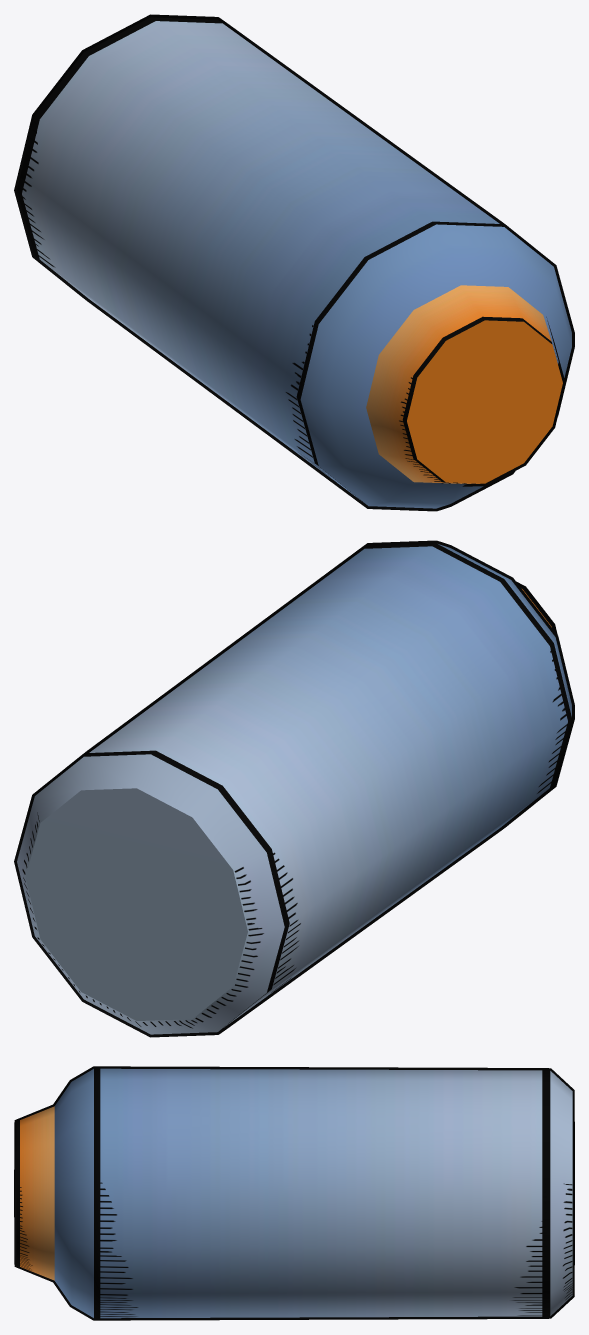
File: pm-sci-fi-battery-capsule-02.glb
3 views of the same model, one above another, from view 1: azimuth 30°, elevation 25°; view 2: azimuth 150°, elevation 25°; view 3: azimuth 270°, elevation 25° (orthographic). The views are drawn at different scales.
Parts seen in each view (by area): view 1: SciFi_Battery_Capsule02; view 2: SciFi_Battery_Capsule02; view 3: SciFi_Battery_Capsule02.
Boxes of the visible parts, left/top/right/bottom form: SciFi_Battery_Capsule02: left=14, top=14, right=574, bottom=511; SciFi_Battery_Capsule02: left=14, top=540, right=574, bottom=1037; SciFi_Battery_Capsule02: left=14, top=1066, right=574, bottom=1320.
Size of the model in its own units: 0.4332 by 0.4332 by 0.9524.
Materials: 3 (2 with a texture image).
